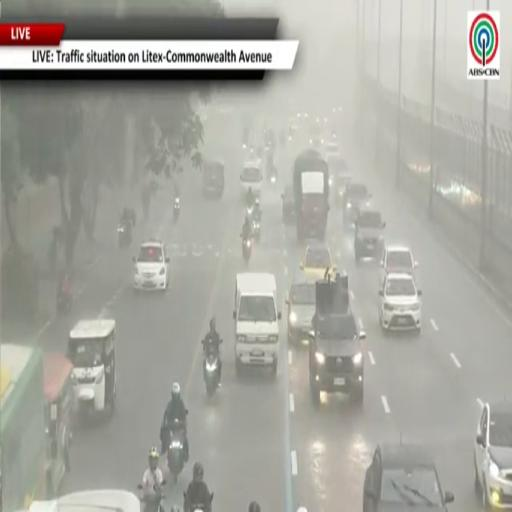bus: (0, 344, 46, 511)
car: (309, 275, 365, 406), (363, 443, 454, 511), (474, 400, 511, 509), (379, 274, 421, 332), (286, 277, 315, 344), (134, 240, 170, 290), (354, 207, 385, 261), (381, 246, 418, 282), (342, 182, 371, 226), (300, 244, 336, 279), (240, 157, 263, 197), (281, 185, 296, 225), (324, 141, 340, 156), (310, 136, 324, 150)
motorcycle: (167, 420, 184, 485), (204, 346, 220, 397), (141, 479, 166, 511), (183, 492, 214, 511), (57, 286, 72, 313), (118, 223, 131, 248), (242, 237, 251, 263), (252, 218, 261, 242), (173, 198, 180, 221), (246, 204, 254, 217), (270, 172, 276, 185)
truck: (293, 150, 329, 241)
